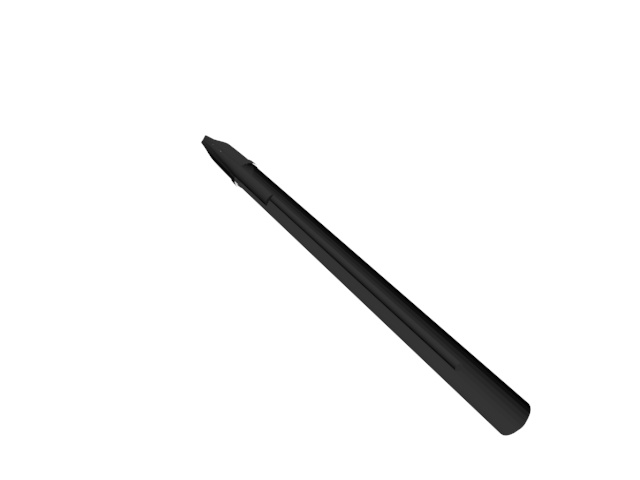pen: (201, 129, 536, 440)
